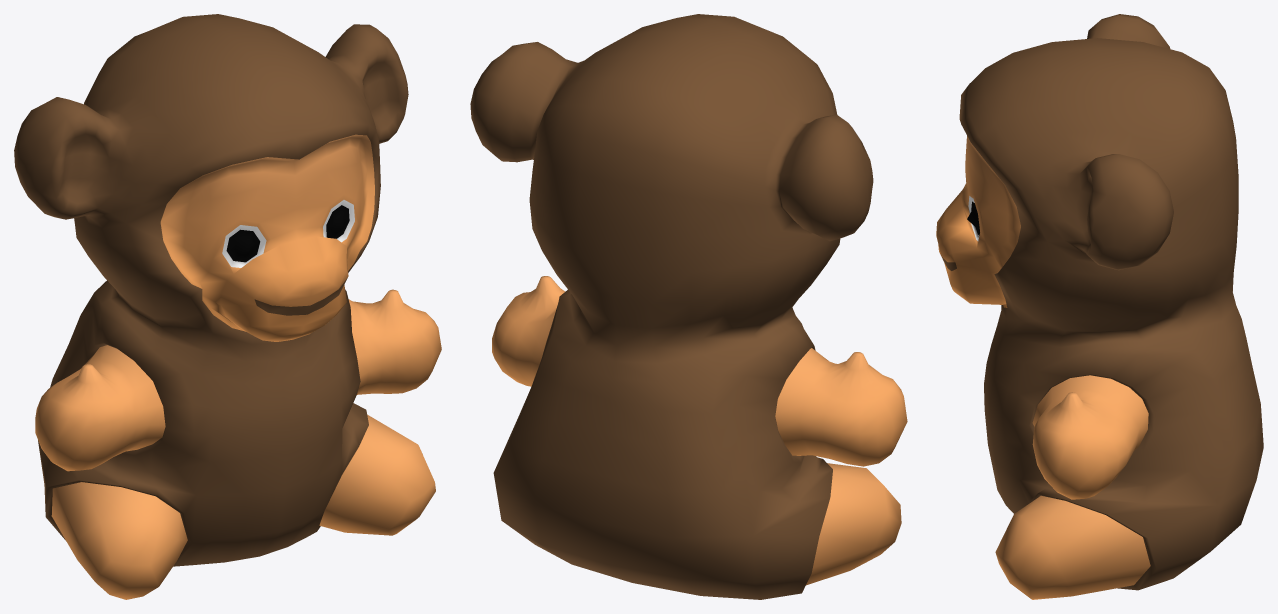
File: Toy_Monkey.fbx
The picture shows the model from 3 angles, left to right: view 1: azimuth 30°, elevation 25°; view 2: azimuth 150°, elevation 25°; view 3: azimuth 270°, elevation 25°; orthographic projection. The views are drawn at different scales.
Visible parts, largest first — view 1: Toy_Monkey; view 2: Toy_Monkey; view 3: Toy_Monkey.
Part boxes in pixels (left/top/right/bottom): Toy_Monkey: left=14, top=14, right=441, bottom=599; Toy_Monkey: left=470, top=14, right=907, bottom=599; Toy_Monkey: left=936, top=14, right=1263, bottom=599.
Bounding box in the file's own units: 0.2135 × 0.2686 × 0.1622.
